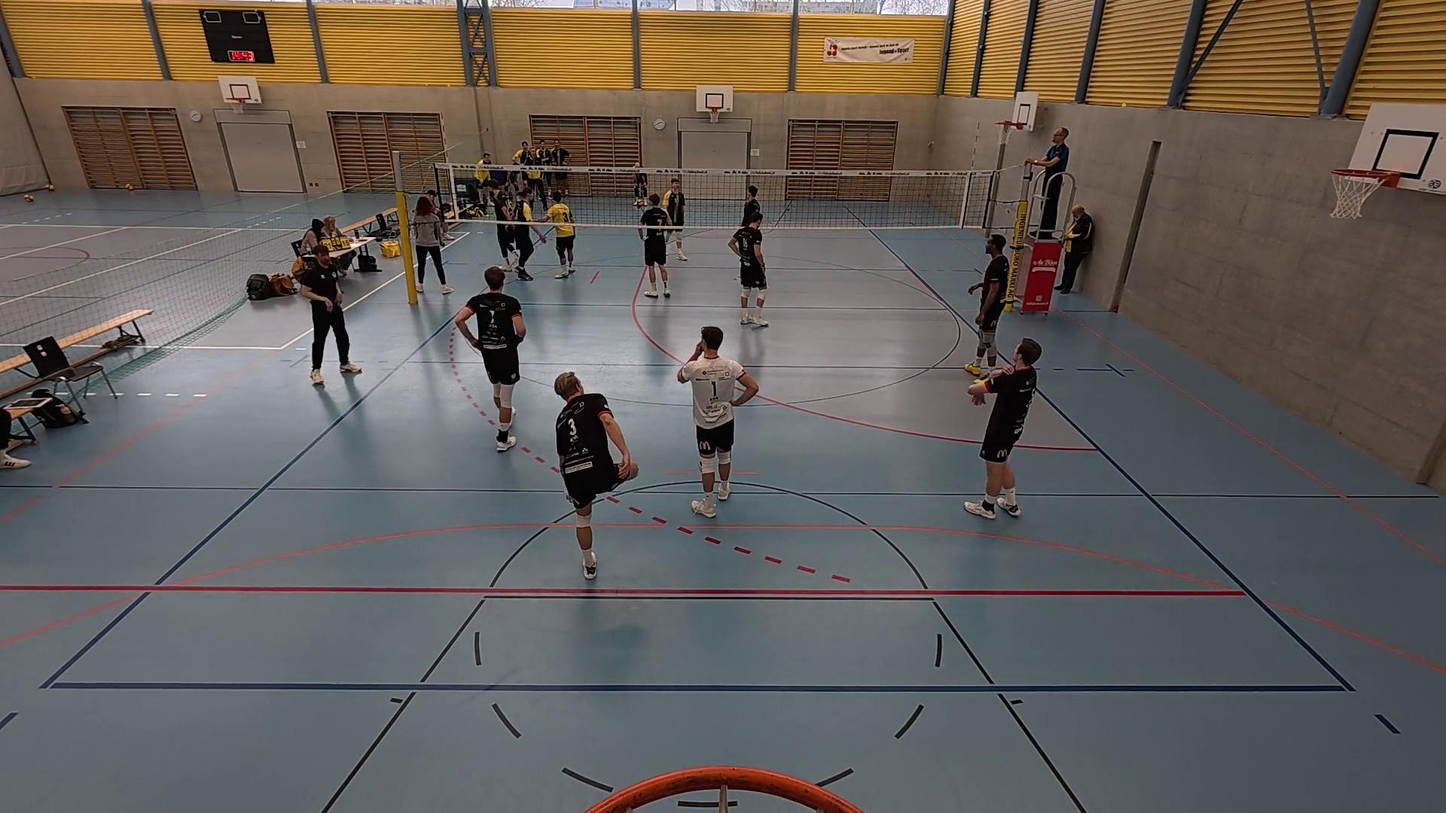Player: (553, 372, 636, 580), (676, 326, 757, 516), (962, 337, 1044, 521), (456, 266, 525, 452), (970, 233, 1011, 376), (731, 213, 768, 327), (636, 193, 670, 300), (547, 190, 576, 281), (660, 175, 688, 262), (510, 191, 537, 280), (739, 183, 765, 230), (632, 162, 653, 209)
